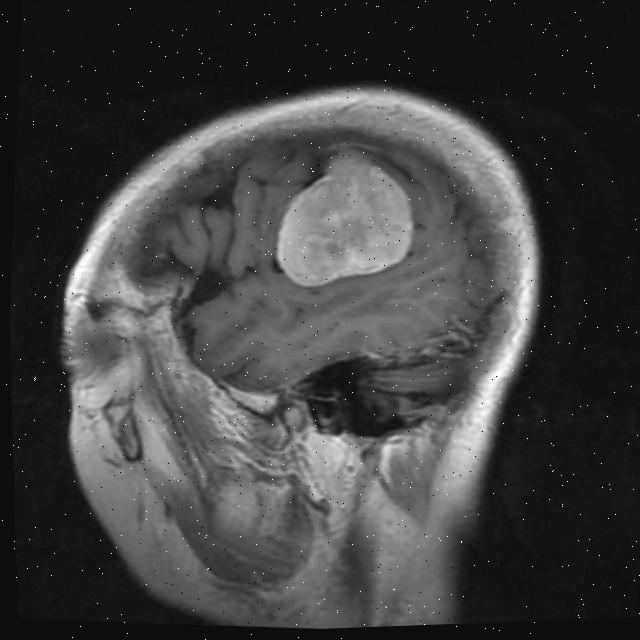Meningioma: (266, 157, 418, 297)
